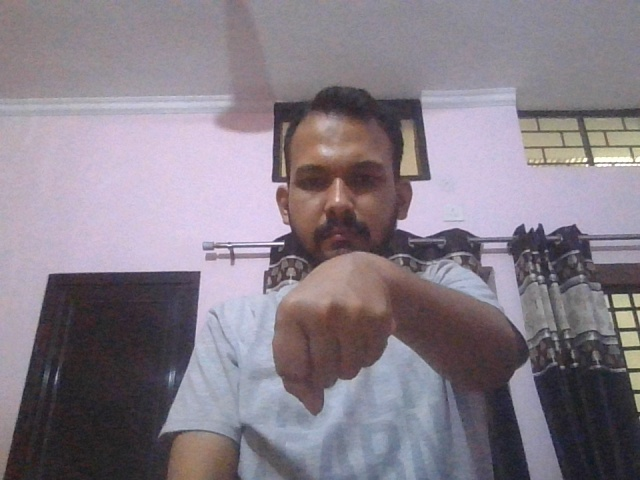yes: (272, 252, 397, 418)
